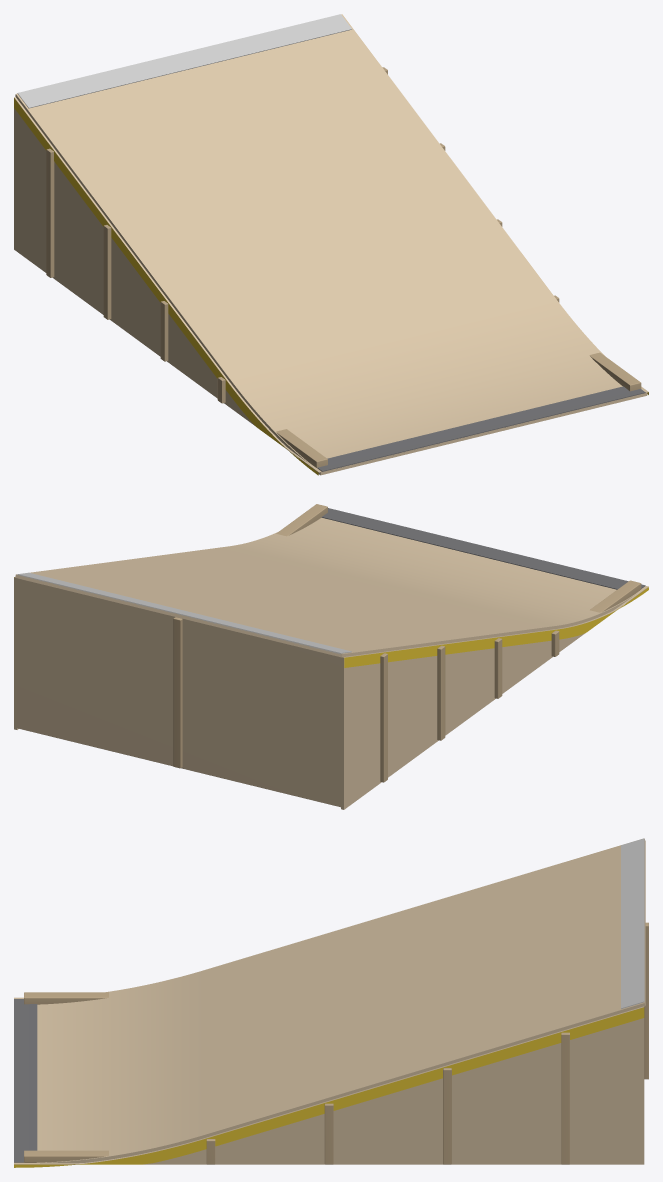
The model's file is ramp_medium.glb.
3 views of the same model, one above another, from view 1: azimuth 30°, elevation 25°; view 2: azimuth 150°, elevation 25°; view 3: azimuth 270°, elevation 25° (orthographic). The views are drawn at different scales.
Visible parts, largest first — view 1: SM_ramp_medium; view 2: SM_ramp_medium; view 3: SM_ramp_medium.
Part boxes in pixels (left/top/right/bottom): SM_ramp_medium: left=14, top=14, right=648, bottom=475; SM_ramp_medium: left=14, top=504, right=648, bottom=809; SM_ramp_medium: left=14, top=838, right=648, bottom=1167.
Bounding box in the file's own units: 2.05 × 0.9218 × 3.22.
